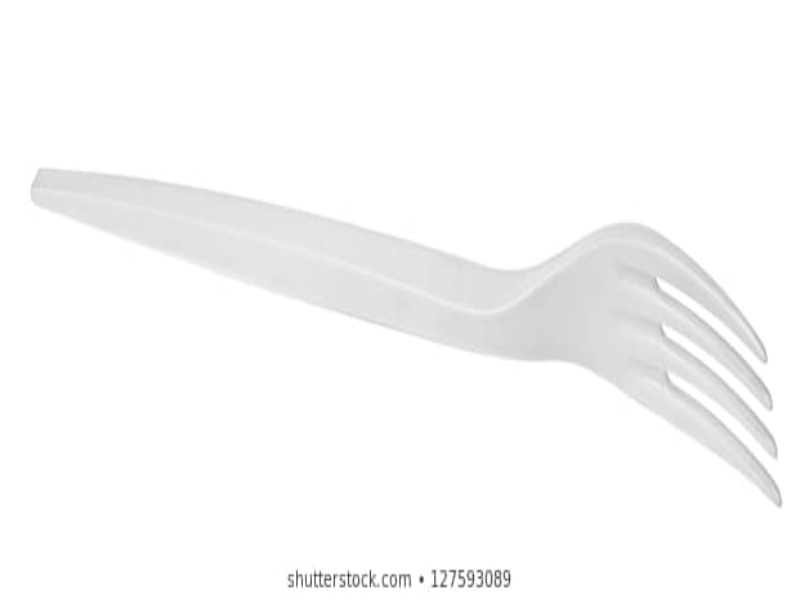plastic-silverware: (25, 163, 785, 515)
